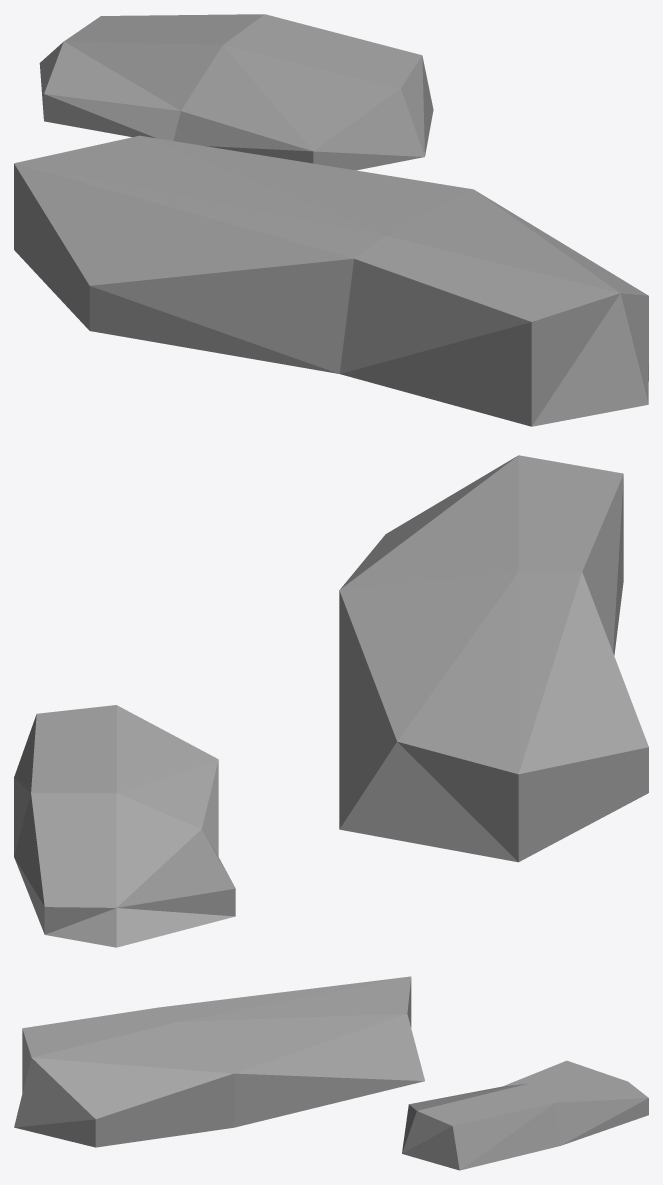
The model's file is Isl_12_Rocks_2.fbx.
3 renders of one model, top to bottom at view 1: azimuth 30°, elevation 25°; view 2: azimuth 150°, elevation 25°; view 3: azimuth 270°, elevation 25°, orthographic. The views are drawn at different scales.
Visible parts, largest first — view 1: Isl_12_Rocks_2; view 2: Isl_12_Rocks_2; view 3: Isl_12_Rocks_2.
Boxes of the visible parts, x1,y1,x2,y2 form: Isl_12_Rocks_2: (14,14,648,426); Isl_12_Rocks_2: (14,455,648,947); Isl_12_Rocks_2: (14,976,648,1170).
Size of the model in its own units: 59.63 by 108 by 12.32.
Materials: 1 (1 with a texture image).
